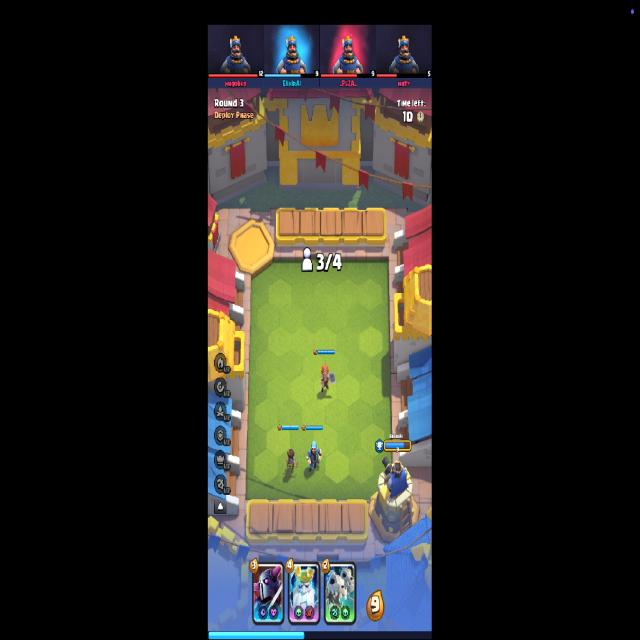card_pekka: (252, 562, 284, 626)
card_royal_ghost: (288, 560, 320, 626)
card_skeleton_dragon: (322, 560, 358, 626)
princess: (286, 449, 298, 475)
valkyrie: (321, 364, 335, 398)
wizard: (307, 441, 322, 474)
